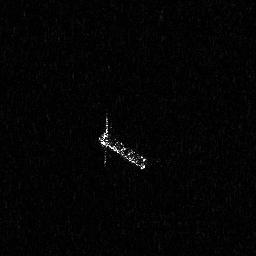ship: (98, 110, 150, 173)
